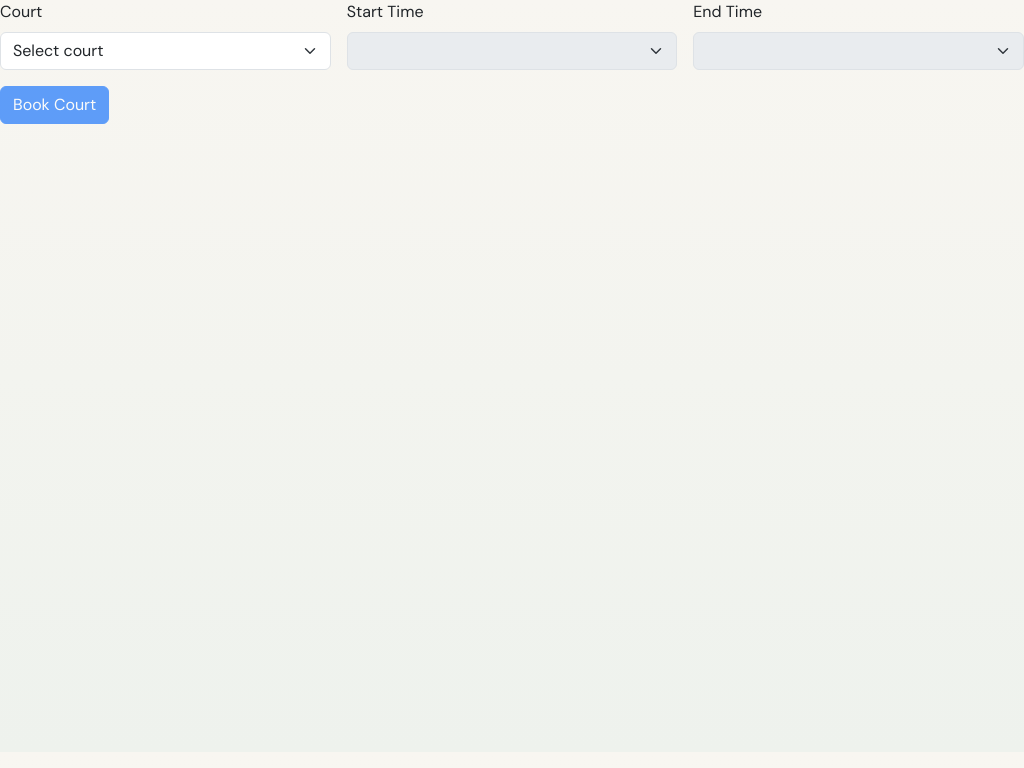
Test: ReservationForm › shows an error when submission fails
Select "Court 1" in the dropdown labelled "Court". click: (165, 51)
box: [0, 32, 331, 70]
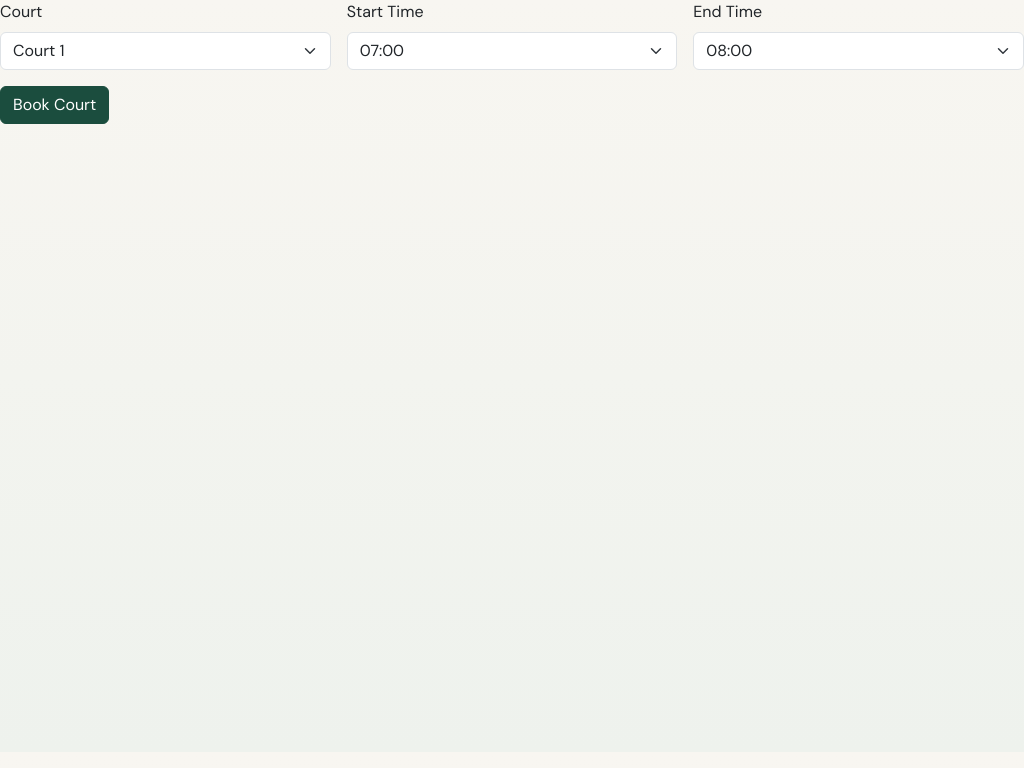
Click the button "Book Court". click: (55, 105)
box: [0, 86, 109, 124]
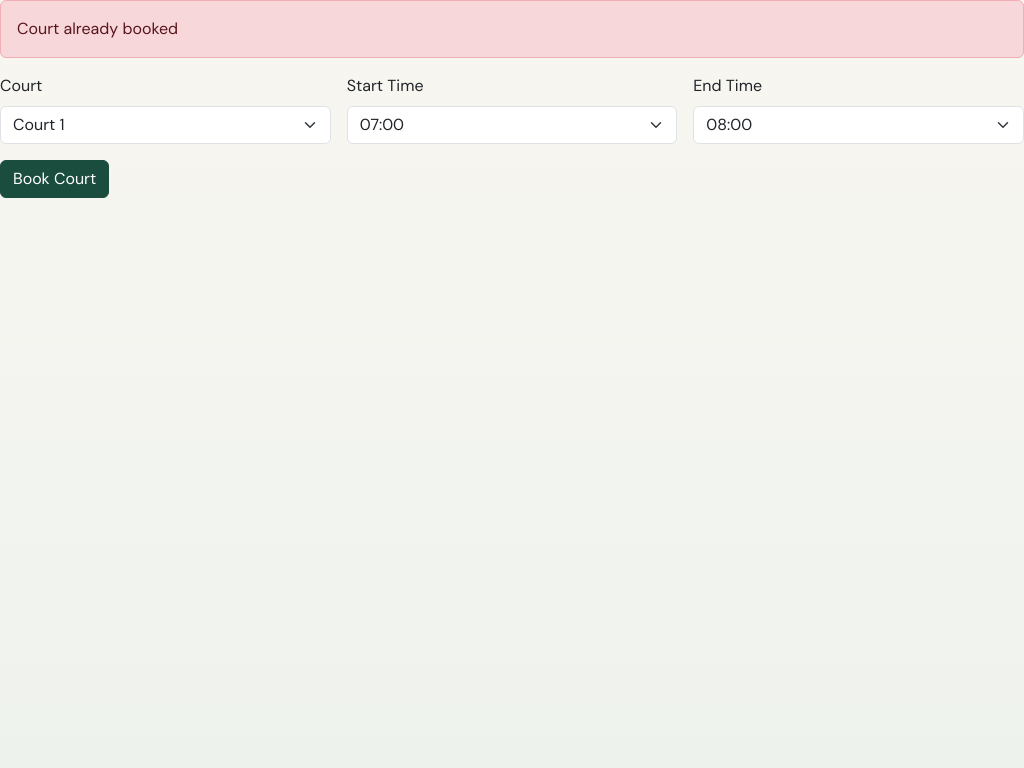
Expected: the text "Court already booked" is shown, [0, 0, 1023, 58]
